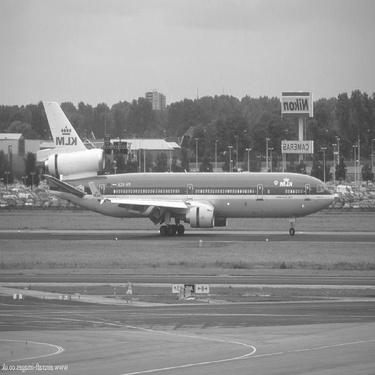airplane: (9, 86, 347, 250)
